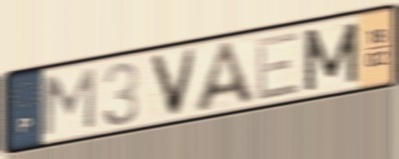3: (101, 59, 141, 128)
A: (192, 37, 260, 116)
E: (254, 28, 302, 104)
M: (301, 19, 362, 95), (40, 65, 98, 139)
V: (147, 45, 202, 120)
